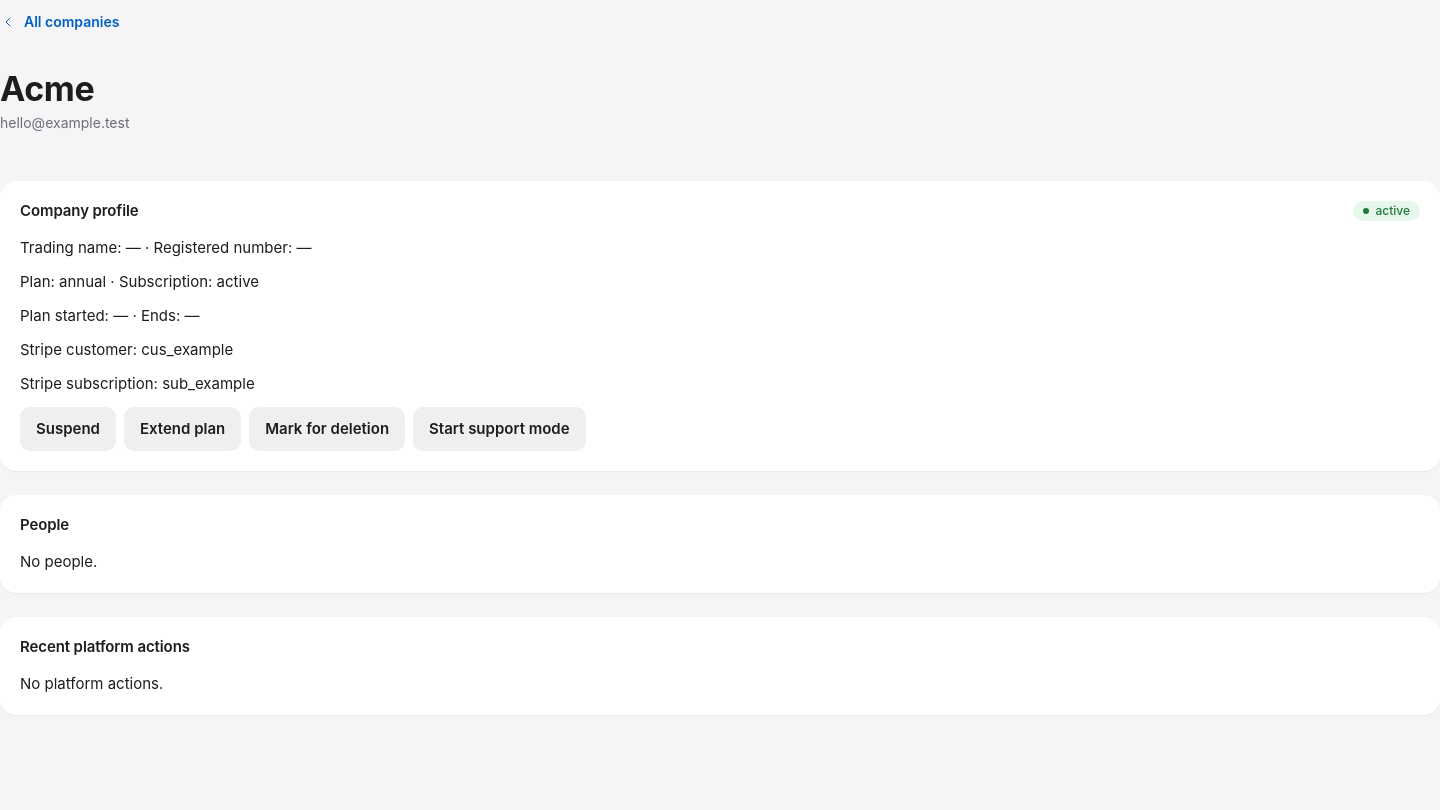
Test: company actions › requires a reason for Start support mode
The width and height of the screenshot is (1440, 810).
Click the button "Start support mode" at (499, 429), box [413,407,586,451]
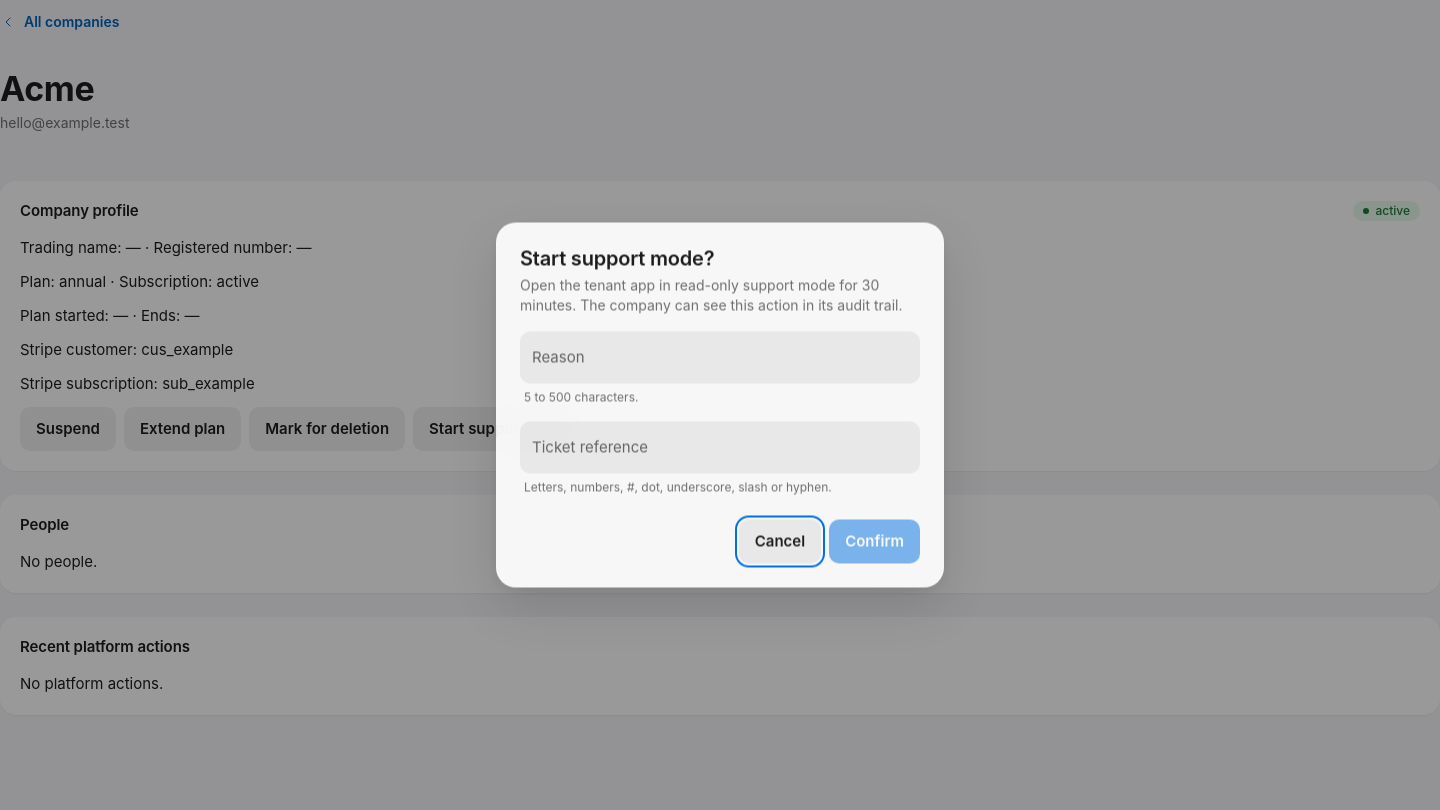
Expected: the button "Confirm" is disabled, [829,520,920,564]
